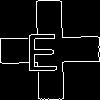E: (25, 25, 59, 71)
